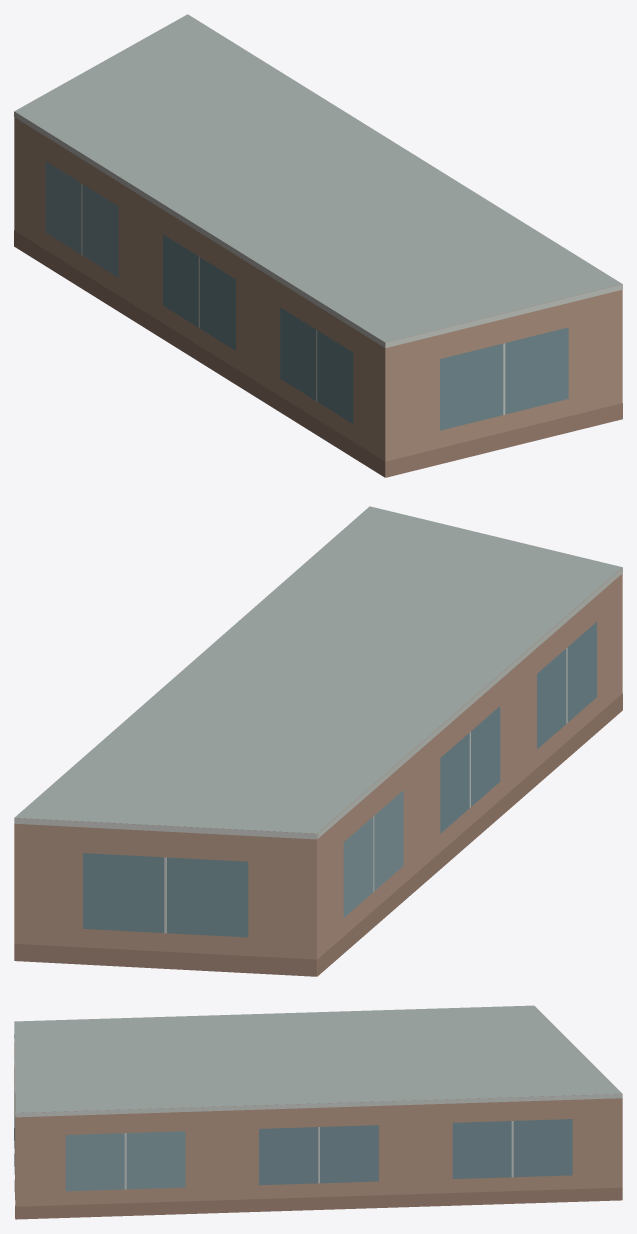
Rendered from survey-upis-32775428.glb.
The picture shows the model from 3 angles, top to bottom: view 1: azimuth 30°, elevation 25°; view 2: azimuth 150°, elevation 25°; view 3: azimuth 270°, elevation 25°; orthographic projection. The views are drawn at different scales.
Visible parts, largest first — view 1: survey-upis-32775428.tmp; view 2: survey-upis-32775428.tmp; view 3: survey-upis-32775428.tmp.
Boxes of the visible parts, x1,y1,x2,y2 form: survey-upis-32775428.tmp: [14, 14, 622, 477]; survey-upis-32775428.tmp: [14, 506, 622, 976]; survey-upis-32775428.tmp: [14, 1005, 622, 1219].
Bounding box in the file's own units: 6.62 × 3.05 × 15.82.
